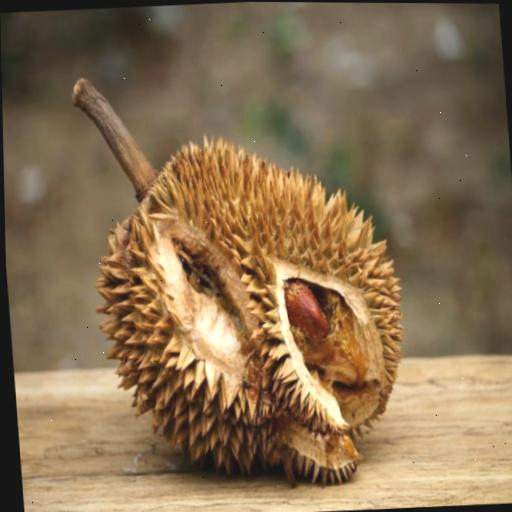rot: (19, 47, 457, 512)
